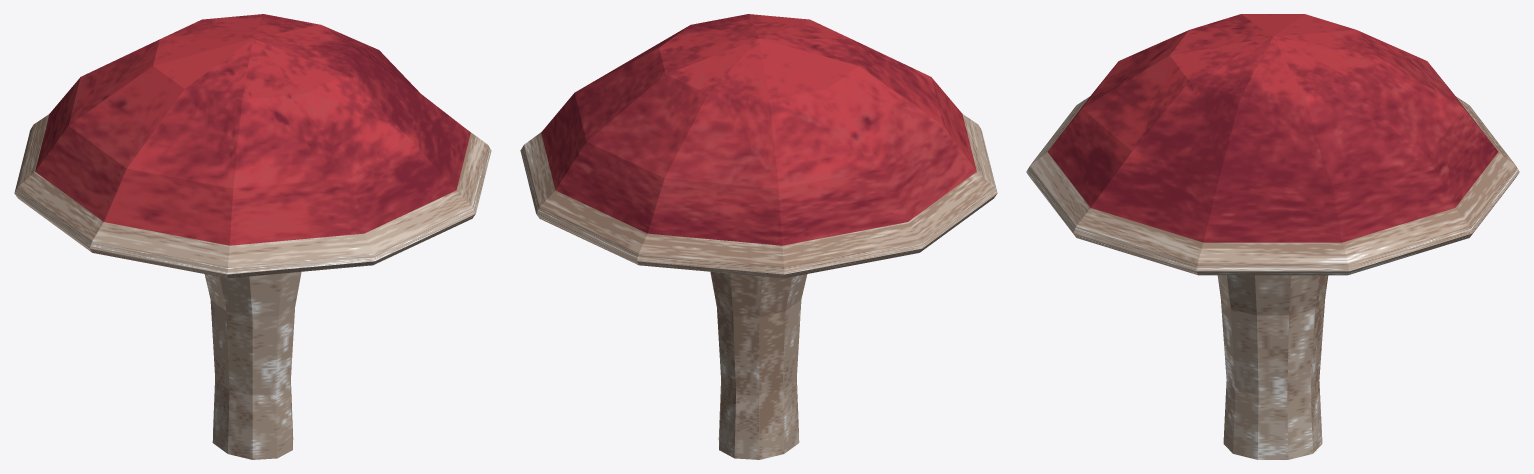
Rendered from mushroom.glb.
3 views of the same model, side by side, from view 1: azimuth 30°, elevation 25°; view 2: azimuth 150°, elevation 25°; view 3: azimuth 270°, elevation 25° (orthographic).
Parts seen in each view (by area): view 1: Sphere; view 2: Sphere; view 3: Sphere.
Boxes of the visible parts, <box> form: Sphere: <box>14,14,491,459</box>; Sphere: <box>520,14,997,459</box>; Sphere: <box>1026,14,1519,459</box>.
Size of the model in its own units: 1.74 by 1.66 by 1.83.
3 materials, 3 textured.
